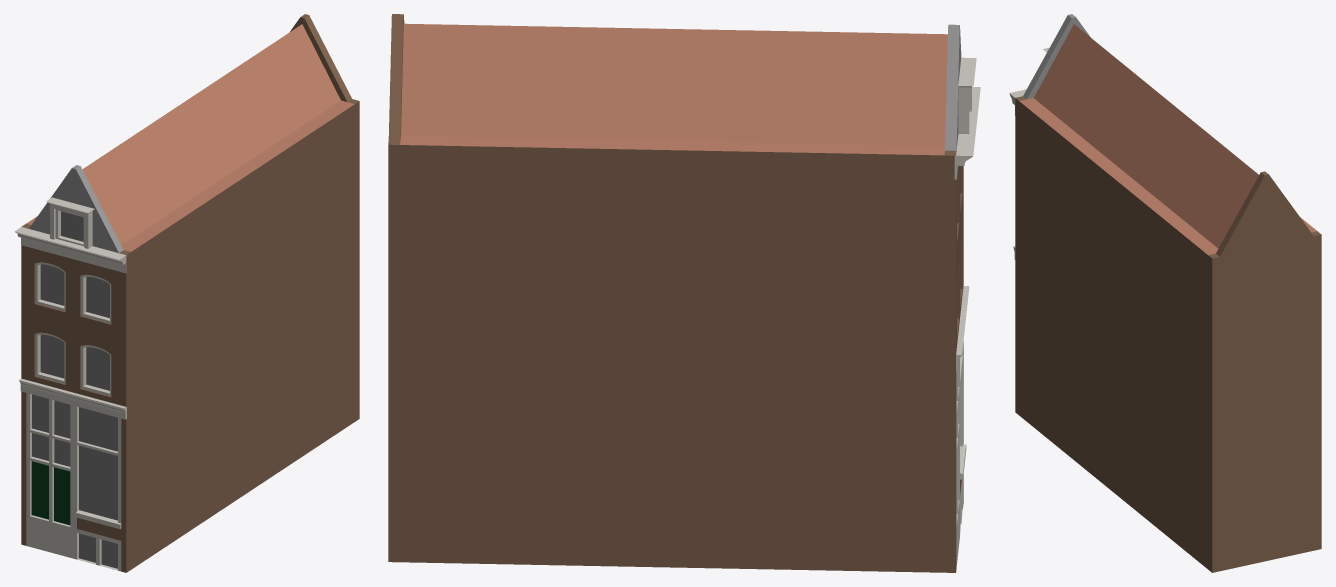
Rendered from Kattenburgerplein_4.fbx.
3 renders of one model, left to right at view 1: azimuth 30°, elevation 25°; view 2: azimuth 150°, elevation 25°; view 3: azimuth 270°, elevation 25°, orthographic. The views are drawn at different scales.
Parts seen in each view (by area): view 1: Kattenburgerplein_4, Kattenburgerplein_4.002, Kattenburgerplein_4_lower_frame.002, window_bool_4.001, Cube.004, Kattenburgerplein_4_lower_frame_doors.001, window_bool_4.002, Cube.003; view 2: Kattenburgerplein_4, Kattenburgerplein_4.002, Kattenburgerplein_4_lower_frame.002, window_bool_4.002, Cube.004; view 3: Kattenburgerplein_4, Kattenburgerplein_4.002.
Boxes of the visible parts, left/top/right/bottom form: Kattenburgerplein_4: left=21, top=14, right=359, bottom=572; Kattenburgerplein_4.002: left=26, top=24, right=354, bottom=251; Kattenburgerplein_4_lower_frame.002: left=26, top=393, right=121, bottom=571; window_bool_4.001: left=35, top=262, right=111, bottom=396; Cube.004: left=14, top=227, right=126, bottom=273; Kattenburgerplein_4_lower_frame_doors.001: left=31, top=461, right=70, bottom=525; window_bool_4.002: left=46, top=197, right=94, bottom=248; Cube.003: left=19, top=378, right=126, bottom=419; Kattenburgerplein_4: left=388, top=14, right=963, bottom=572; Kattenburgerplein_4.002: left=400, top=23, right=947, bottom=155; Kattenburgerplein_4_lower_frame.002: left=956, top=345, right=966, bottom=568; window_bool_4.002: left=958, top=57, right=976, bottom=134; Cube.004: left=954, top=87, right=980, bottom=179; Kattenburgerplein_4: left=1015, top=14, right=1321, bottom=572; Kattenburgerplein_4.002: left=1019, top=24, right=1317, bottom=255.
Size of the model in its own units: 1540 by 1462 by 1073.
